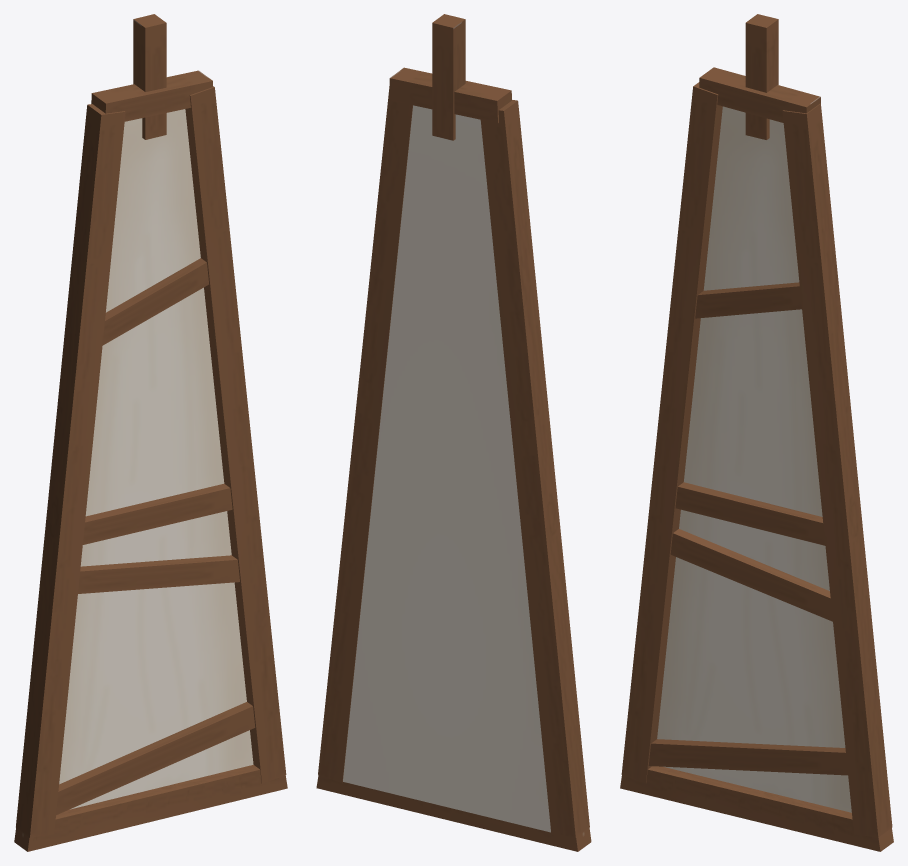
3 views of the same model, side by side, from view 1: azimuth 30°, elevation 25°; view 2: azimuth 150°, elevation 25°; view 3: azimuth 330°, elevation 25° (orthographic).
Visible parts, largest first — view 1: Wing; view 2: Wing; view 3: Wing.
Boxes of the visible parts, left/top/right/bottom form: Wing: left=14, top=14, right=287, bottom=851; Wing: left=316, top=14, right=591, bottom=851; Wing: left=620, top=14, right=893, bottom=851.
Bounding box in the file's own units: 2.13 × 6.19 × 0.2291.
